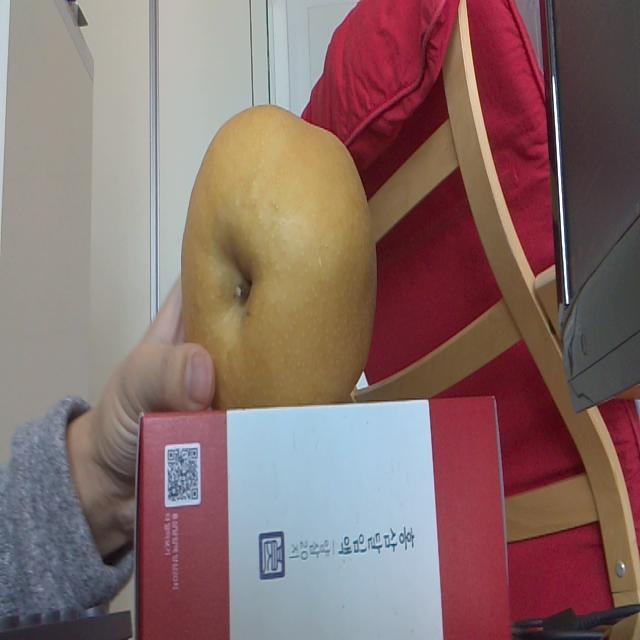pear: (182, 103, 375, 407)
